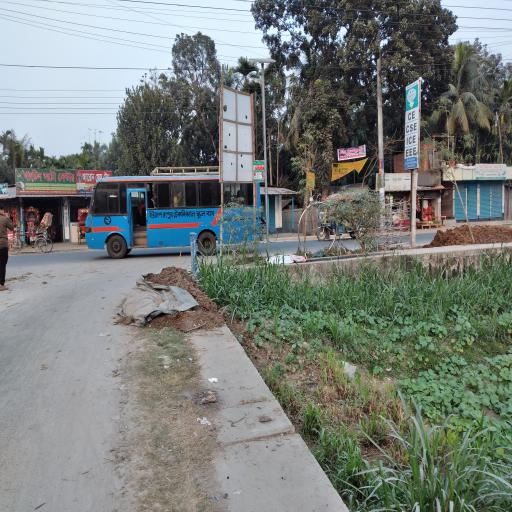auto rickshaw: (316, 190, 376, 244)
bus: (84, 160, 270, 256)
rickshaw: (9, 214, 54, 258), (23, 206, 41, 243), (75, 204, 89, 248)
